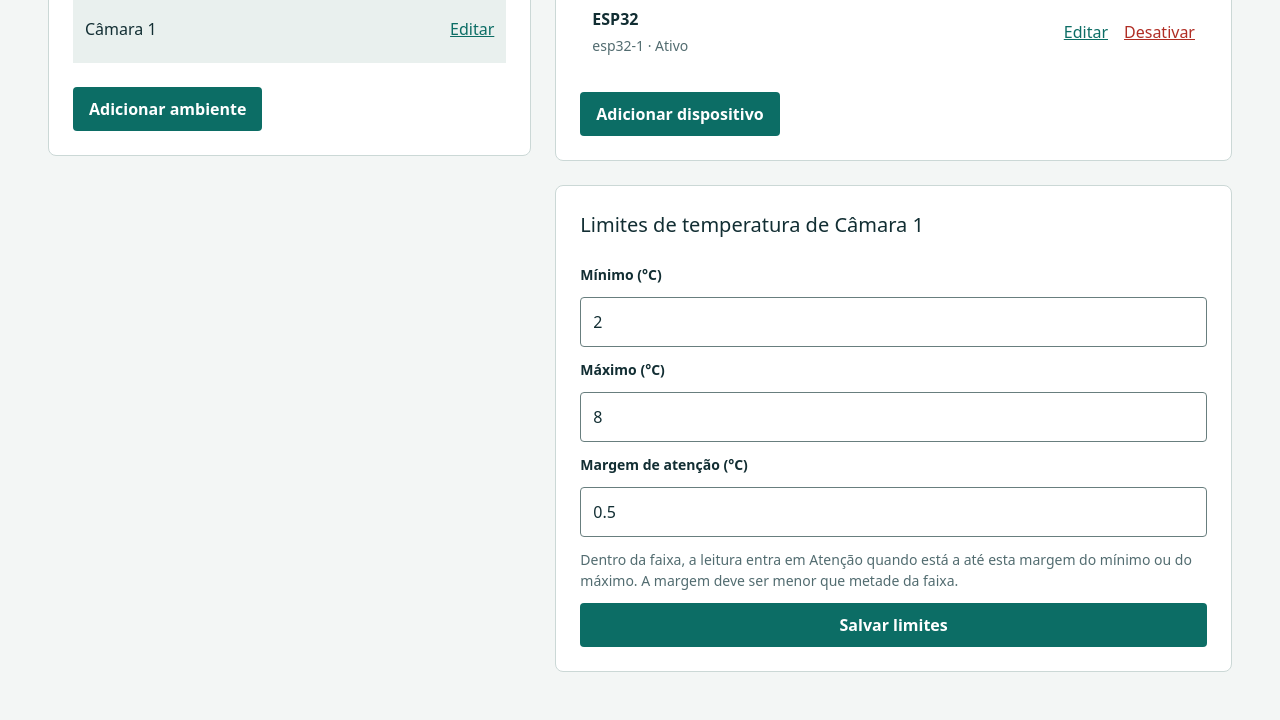
Test: explica a margem no campo, preserva rascunho e só confirma limites aceitos pela API
This screenshot has width=1280, height=720.
(page scrolled)
Replace the text in the number field with id "margin-c" with "4" at (894, 512), box [580,487,1207,537]
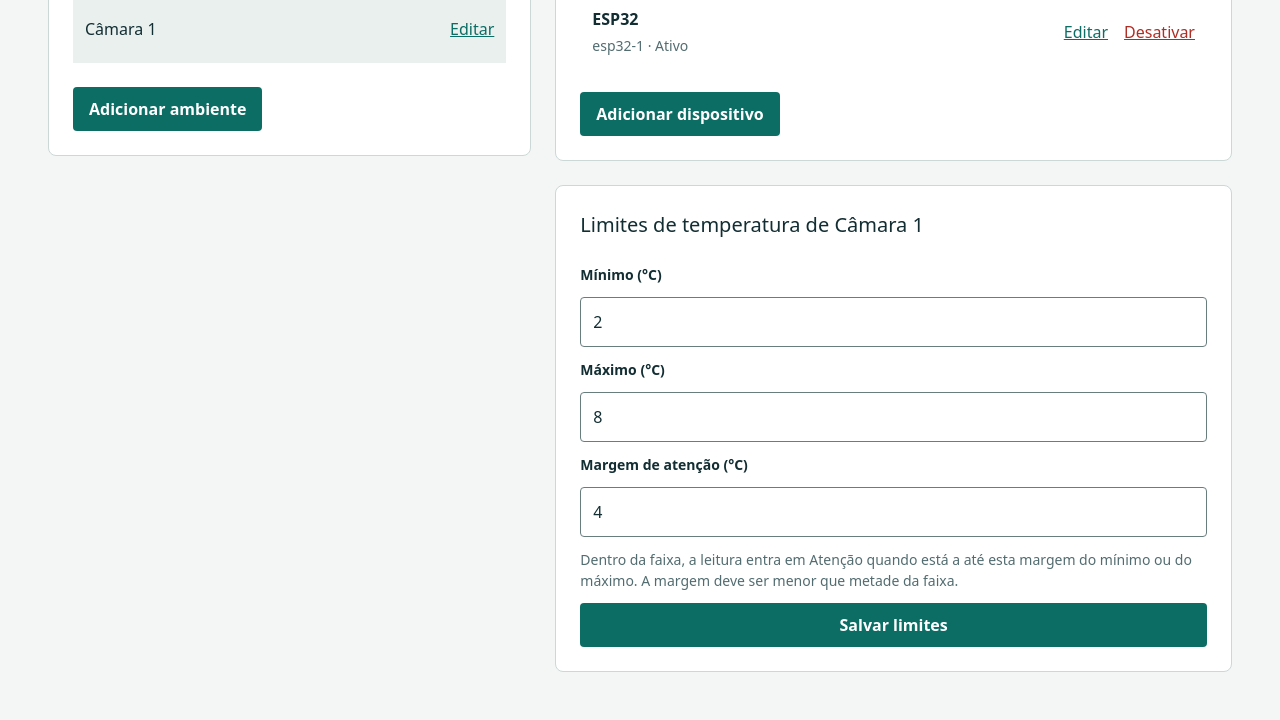
Submit the form with id "margin-c", box [580,264,1207,647]
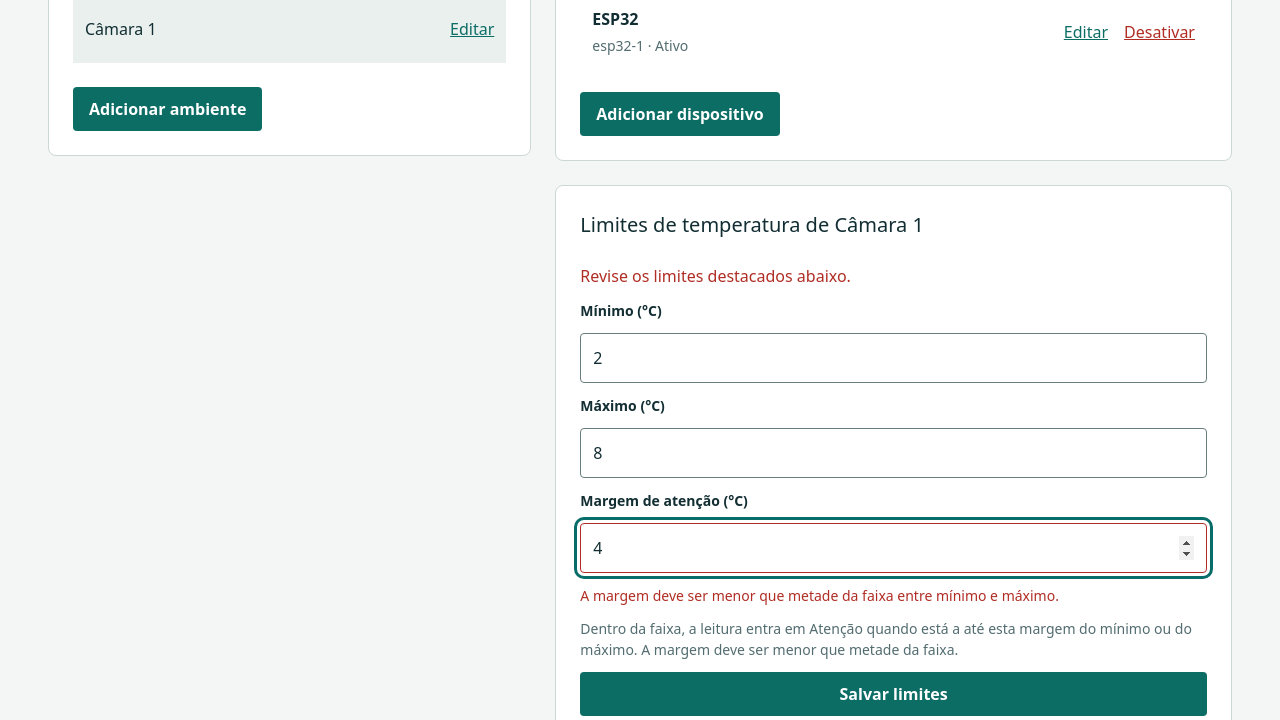
Check: the text with id "margin-c-error" shows "menor que metade", box [580,586,1059,605]
Replace the text in the number field with id "margin-c" with "1" at (894, 548), box [580,523,1207,573]
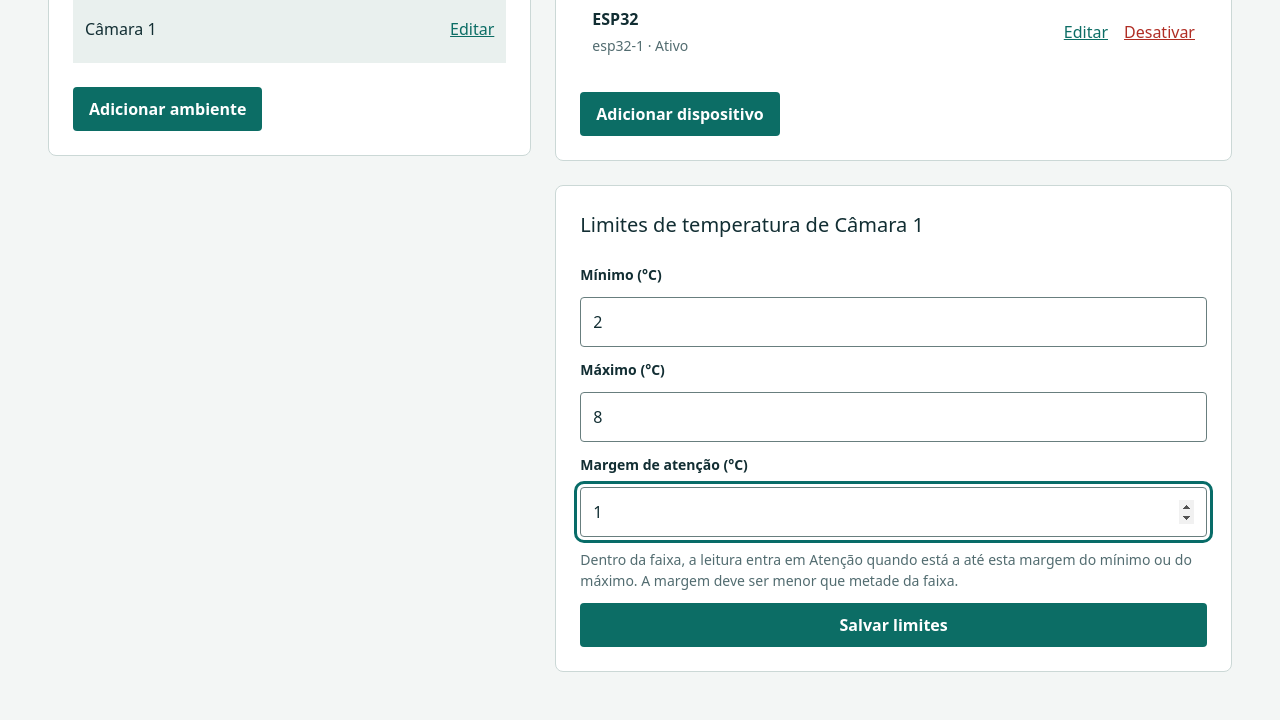
Submit the form with id "margin-c", box [580,264,1207,647]
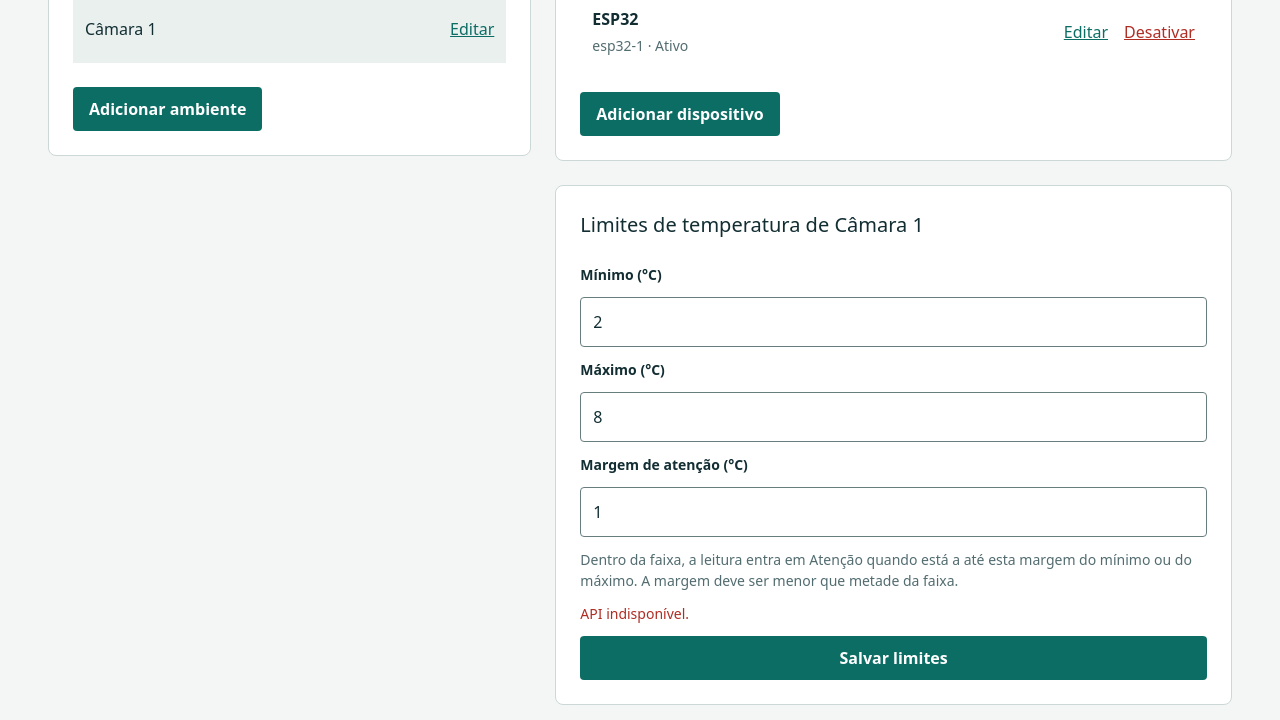
Check: the message with id "rules-save-error" reads "API indisponível.", box [580,604,689,623]
Submit the form with id "margin-c", box [580,264,1207,680]
(page scrolled)
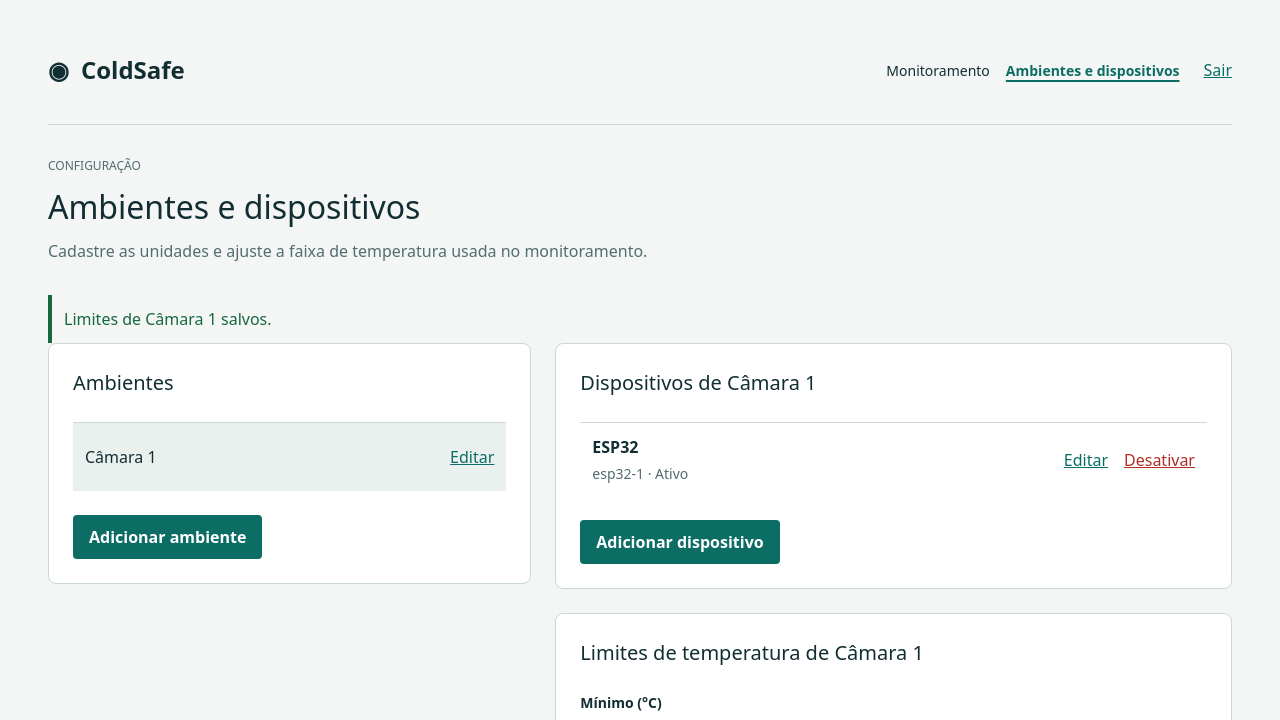
Check: the message "Limites de Câmara 1 salvos." is shown, box [48,295,1232,343]
